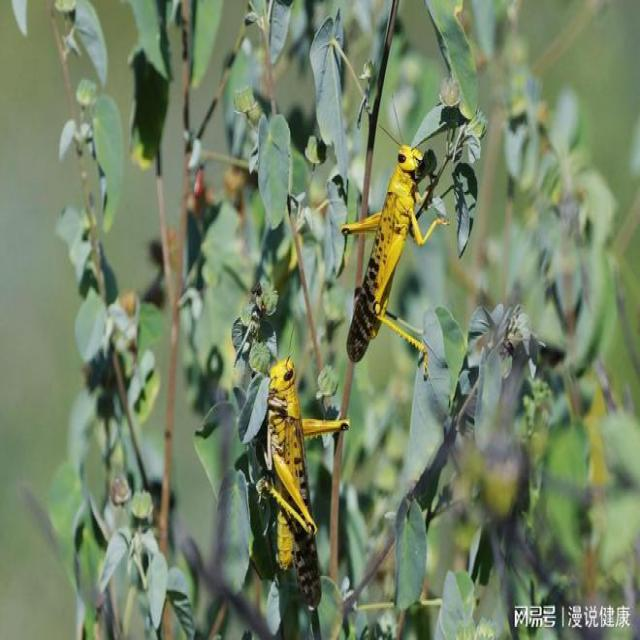ZhaMeng: (341, 135, 444, 385), (251, 357, 353, 600)
